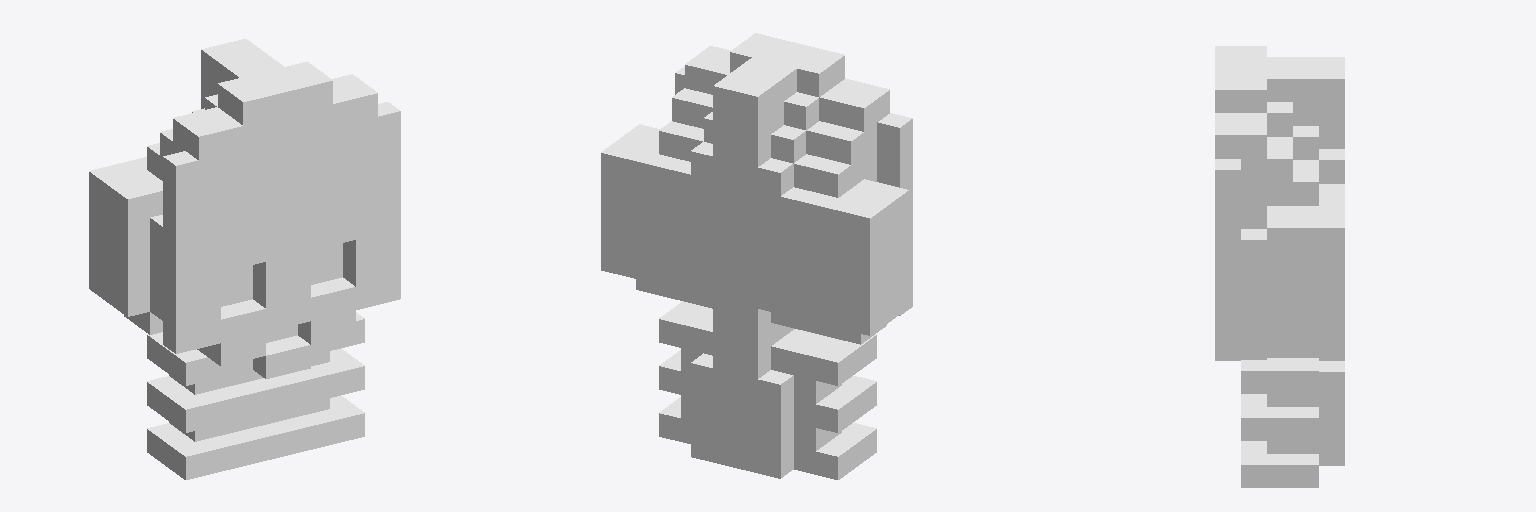
Rendered from SK_Body.obj.
The picture shows the model from 3 angles: view 1: azimuth 30°, elevation 25°; view 2: azimuth 150°, elevation 25°; view 3: azimuth 270°, elevation 25°; orthographic projection.
Parts seen in each view (by area): view 1: object 1; view 2: object 1; view 3: object 1.
Part boxes in pixels (x1,y1,x2,y2): object 1: (89,39,400,479); object 1: (601,33,912,479); object 1: (1215,46,1344,487).
Bounding box in the file's own units: 1.2 × 1.6 × 0.5.